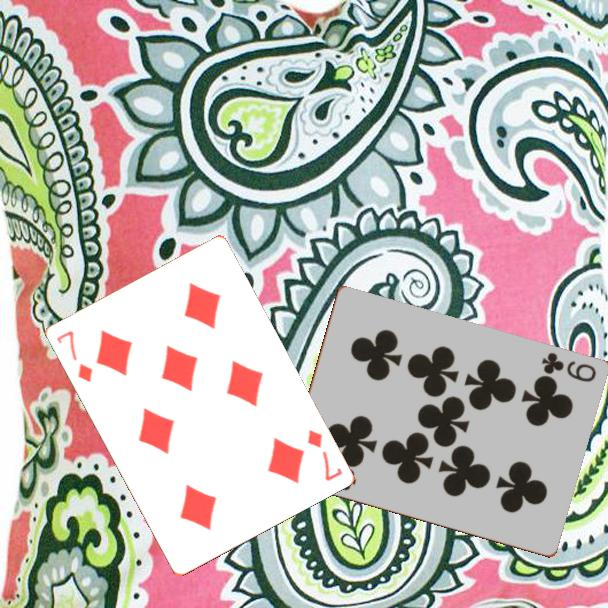c09: (537, 349, 599, 385)
d07: (52, 327, 95, 385), (303, 426, 345, 484)
